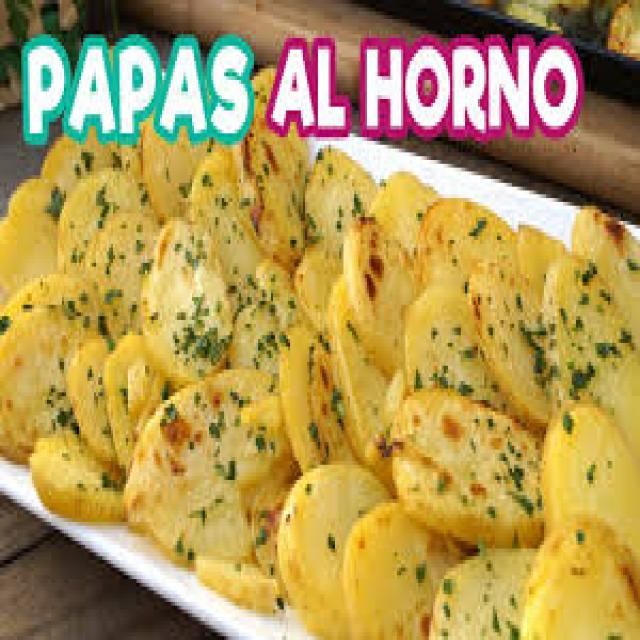papa: (276, 167, 633, 630)
